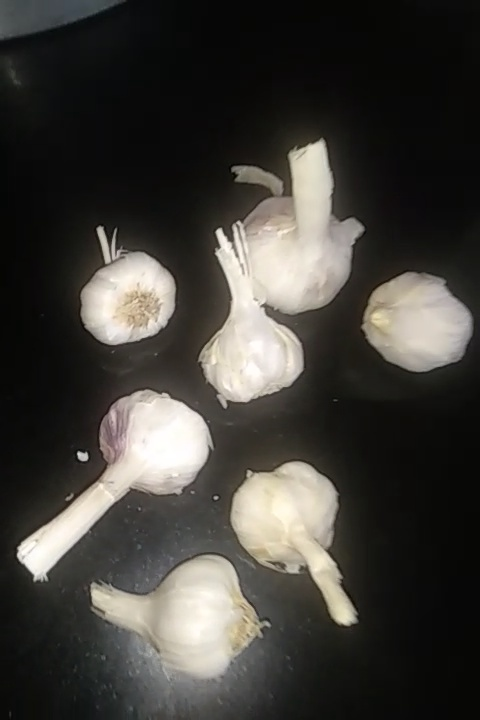garlic: (23, 400, 208, 553), (72, 553, 260, 689), (221, 461, 367, 631), (224, 139, 350, 315), (200, 231, 313, 406), (342, 271, 472, 388), (72, 222, 180, 351)
